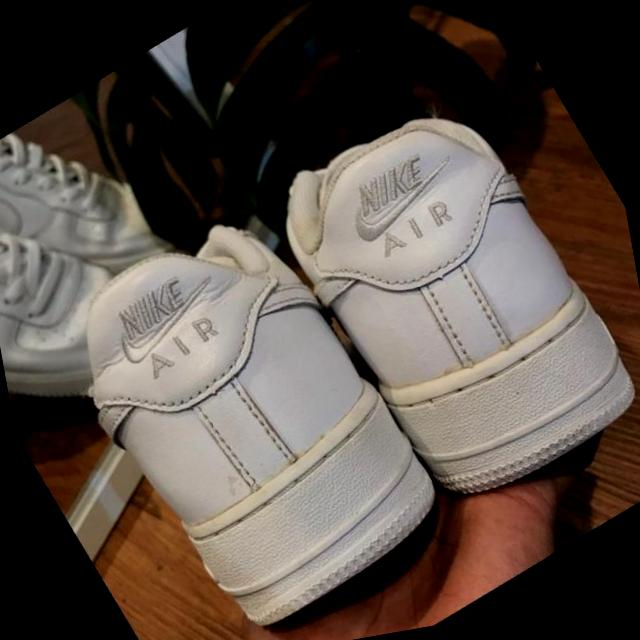nike_fake_airforce: (21, 172, 399, 538), (239, 63, 596, 414)
